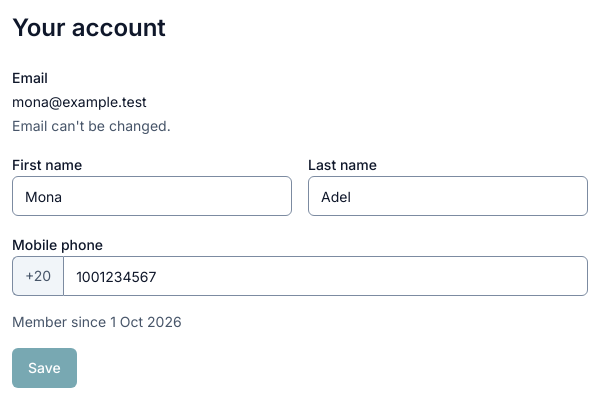
Scenario: profile (spec 01 SF-15) › typing back the saved value (or only spaces) is not a change
Type "x" into the field labelled "Last name" at (448, 196), box [308, 176, 588, 216]
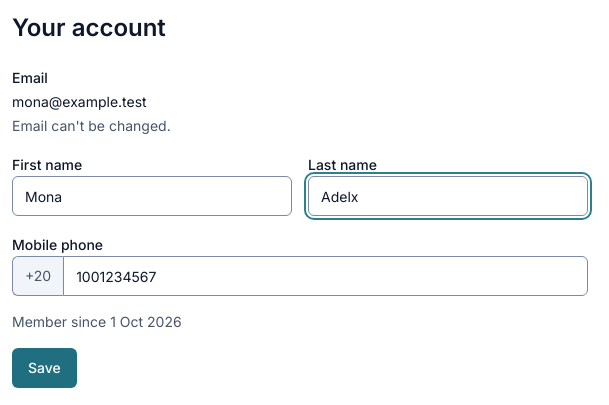
Result: the button "Save" is enabled at [12, 348, 77, 388]
Replace the text in the field labelled "Last name" with " Adel " at (448, 196), box [308, 176, 588, 216]
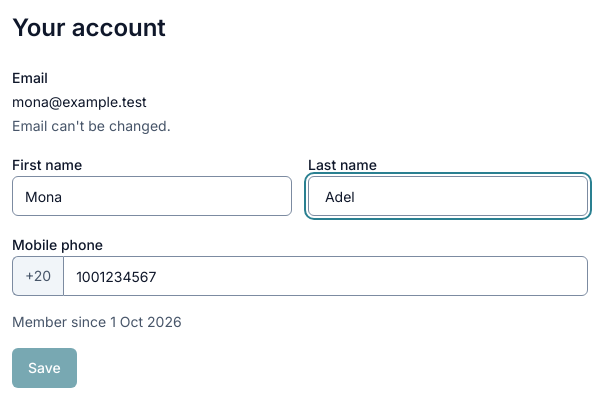
Result: the button "Save" is disabled at [12, 348, 77, 388]
